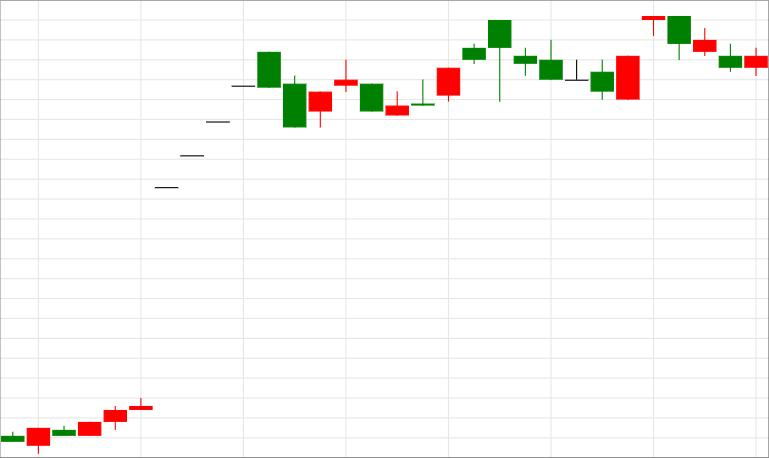bullish_engulfing_rise: (489, 19, 639, 103)
hanging_man_fall: (386, 19, 512, 116)
